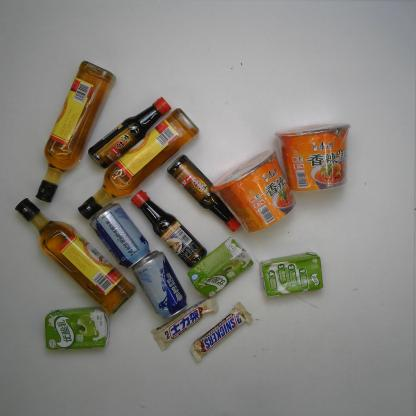Alcohol: (88, 198, 150, 268), (130, 246, 188, 320)
Chocolate: (152, 290, 222, 353), (189, 301, 253, 364)
Instant Noodles: (209, 147, 298, 233), (273, 122, 352, 194)
Milk: (186, 236, 254, 300), (259, 251, 326, 298), (44, 306, 112, 350)
Seasoner: (15, 196, 136, 317), (78, 104, 203, 220), (34, 59, 118, 205), (130, 189, 209, 269), (166, 153, 244, 232), (88, 96, 173, 168)
